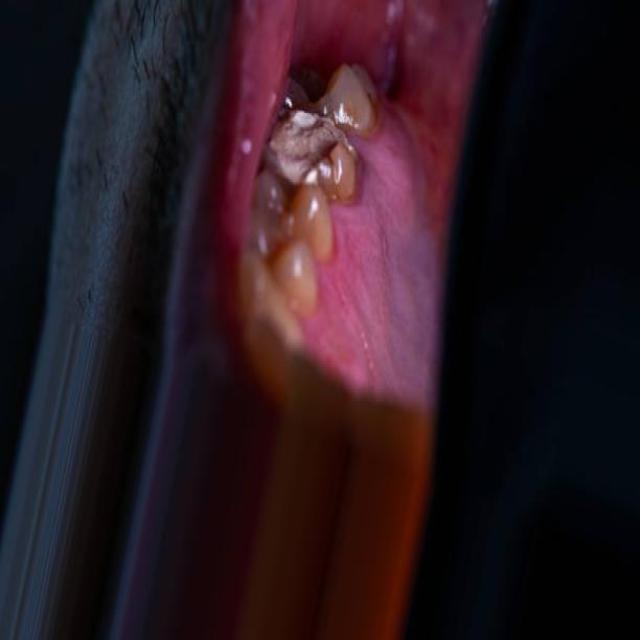caries: (268, 103, 358, 204)
